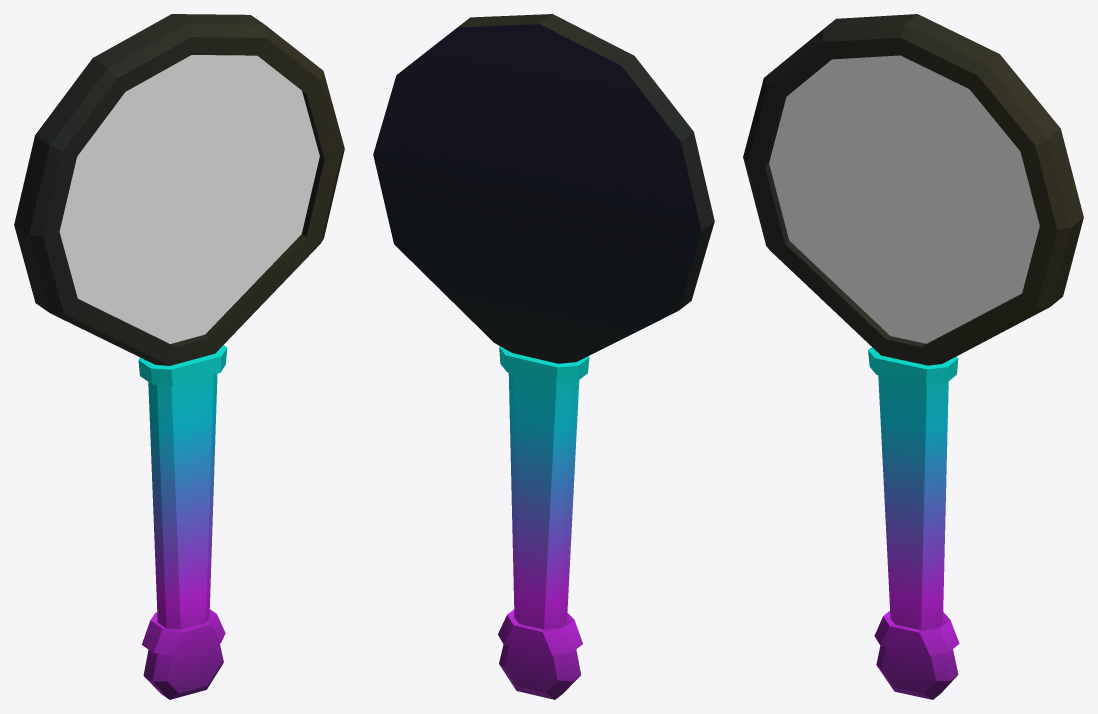
File: treasure.glb
The picture shows the model from 3 angles, left to right: view 1: azimuth 30°, elevation 25°; view 2: azimuth 150°, elevation 25°; view 3: azimuth 330°, elevation 25°; orthographic projection.
Visible parts, largest first — view 1: Circle.014; view 2: Circle.014; view 3: Circle.014.
Boxes of the visible parts, bbox=[...] form: Circle.014: bbox=[14, 14, 344, 699]; Circle.014: bbox=[373, 14, 714, 699]; Circle.014: bbox=[743, 14, 1083, 699].
Size of the model in its own units: 1.46 by 2.91 by 0.2243.
1 material, 1 textured.
